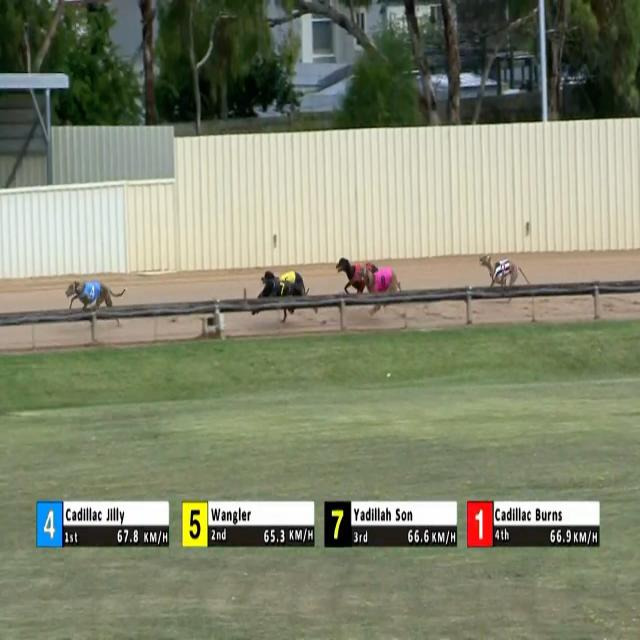dog_eight: (375, 272, 389, 292)
dog_five: (280, 268, 298, 288)
dog_four: (83, 280, 100, 306)
dog_one: (353, 263, 372, 290)
dog_seven: (278, 280, 290, 302)
dog_two: (497, 259, 508, 283)
rail: (0, 280, 639, 325)
